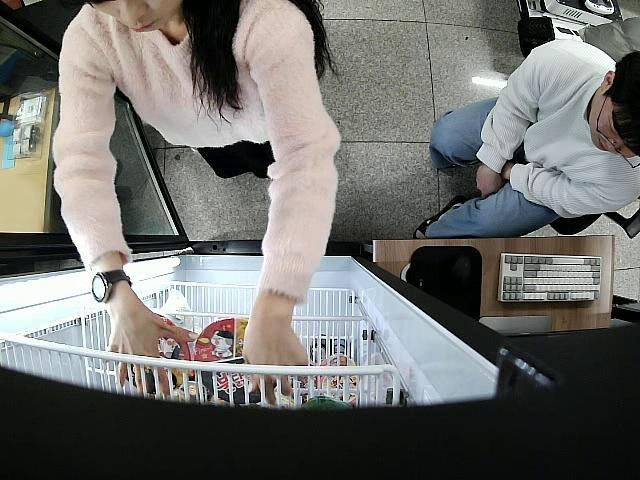07_buldak_L: (194, 319, 266, 405), (122, 314, 196, 388)
